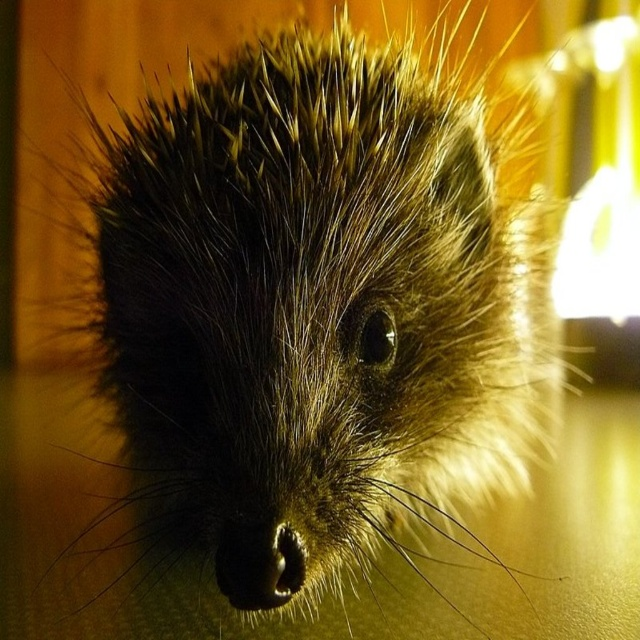Hedgehog: (10, 0, 598, 639)
